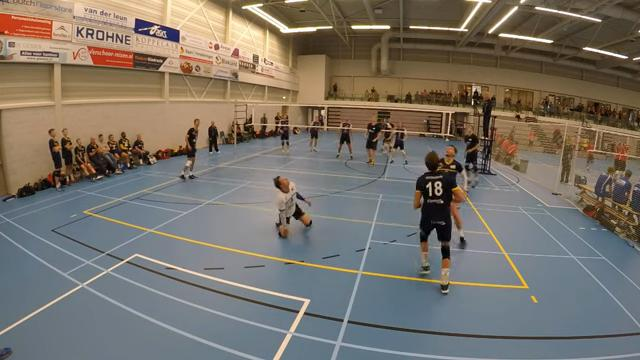difesa: (261, 171, 318, 239)
